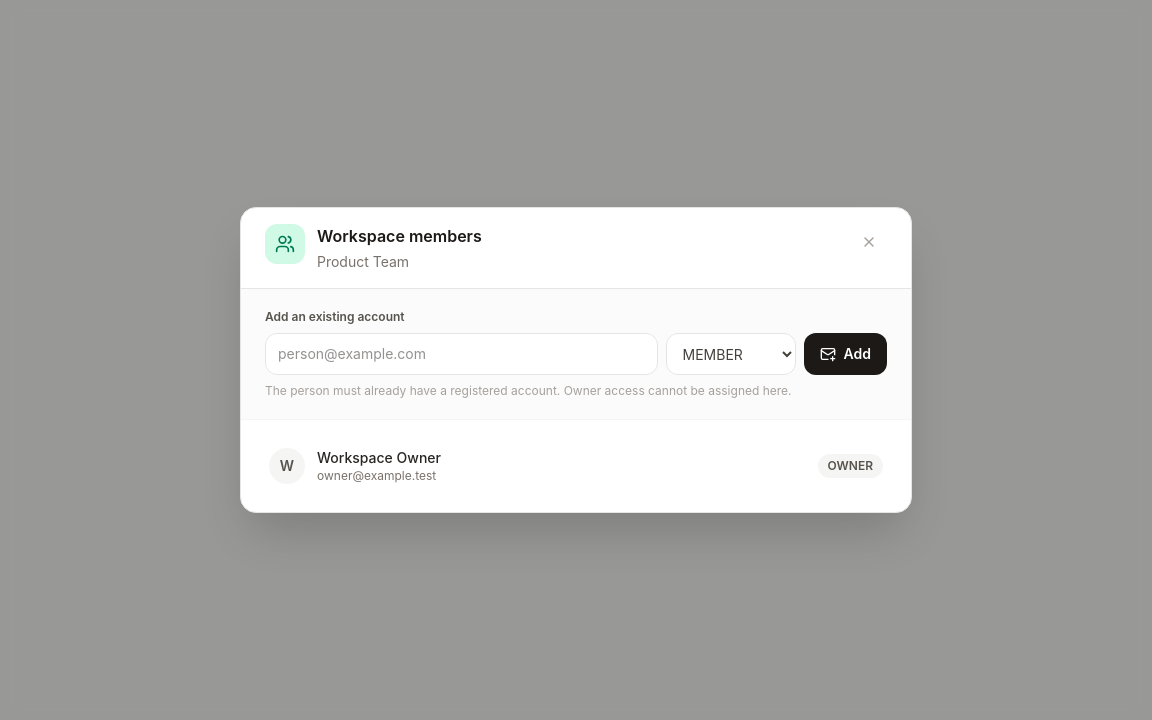
Scenario: MembersDialog › adds an existing registered user and refreshes the member list
The image size is (1152, 720).
Check: the text "Workspace Owner" is shown, box [317,449,441,466]
In the field labelled "Add an existing account": [461, 354] box [265,333,658,375], type "new-member@example.test"
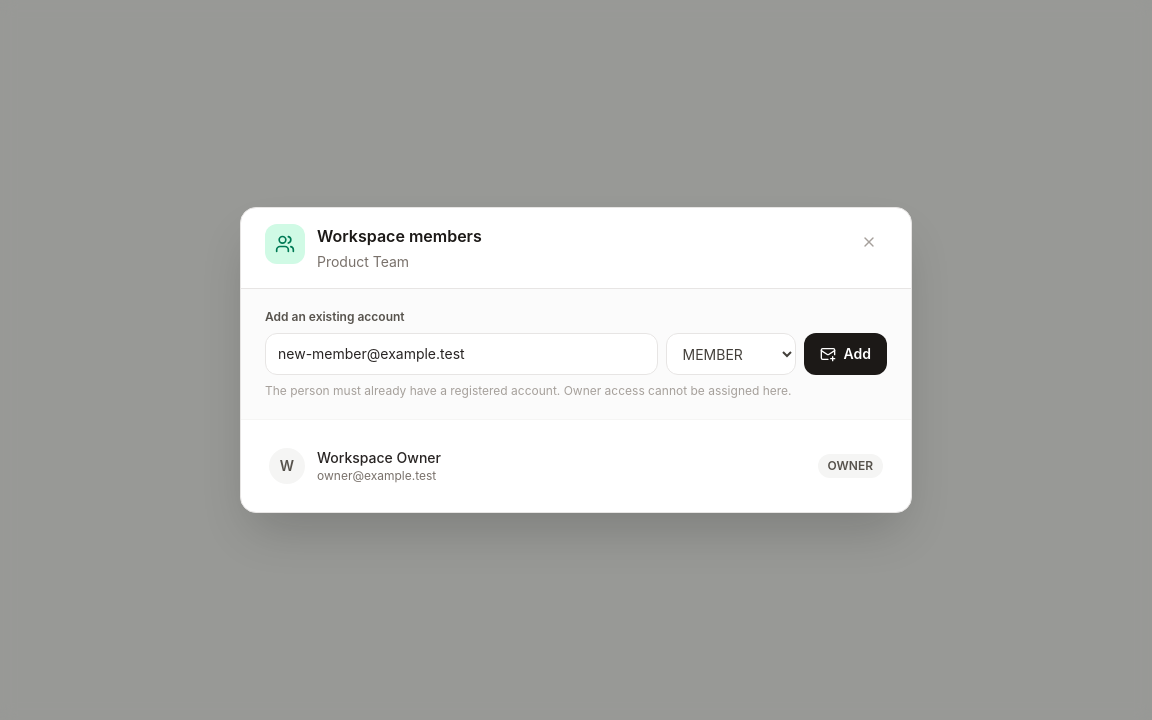
Select "GUEST" in the dropdown named "New member role": [730, 354] box [666,333,796,375]
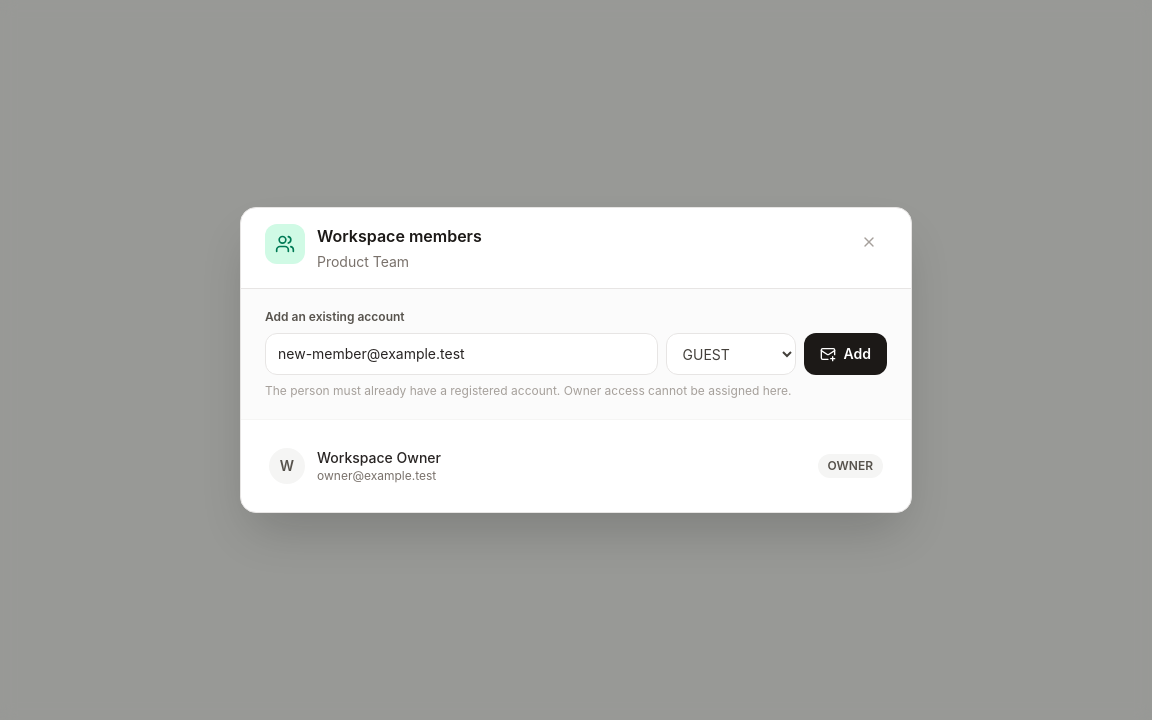
Click the button "Add": [845, 354] box [804,333,887,375]
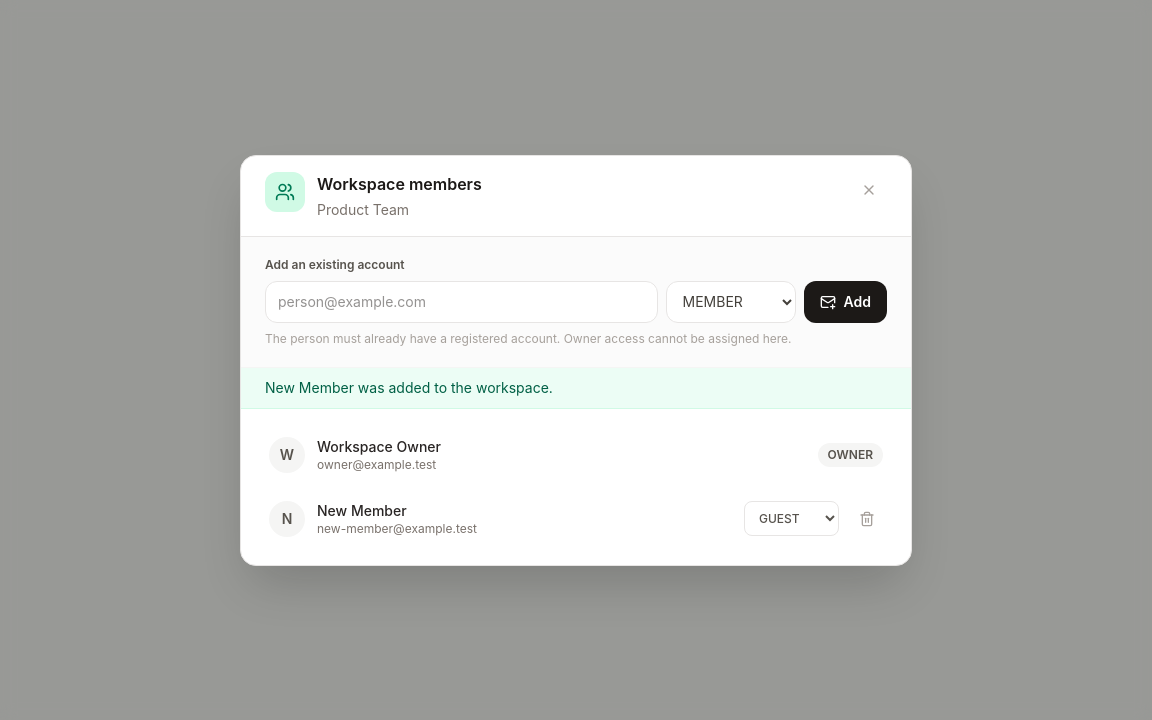
Check: the message reads "New Member was added to the workspace.", box [265,378,553,396]
Check: the text "new-member@example.test" is shown, box [317,520,477,536]
